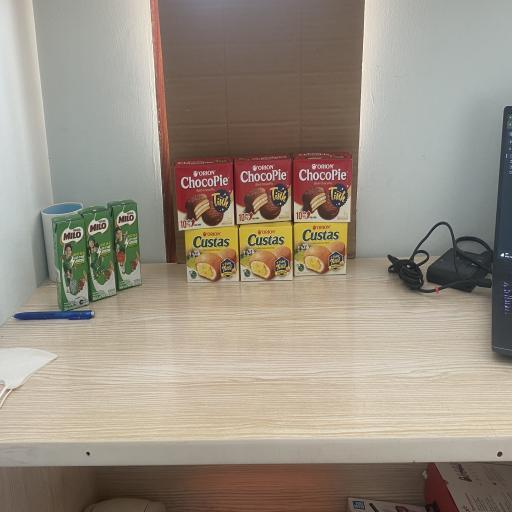chocopie: (174, 157, 234, 230), (292, 152, 352, 222), (234, 154, 292, 226)
custas: (239, 222, 292, 281), (184, 226, 238, 282), (293, 222, 347, 276)
milo: (52, 214, 89, 312), (79, 206, 116, 302), (107, 199, 141, 293)
